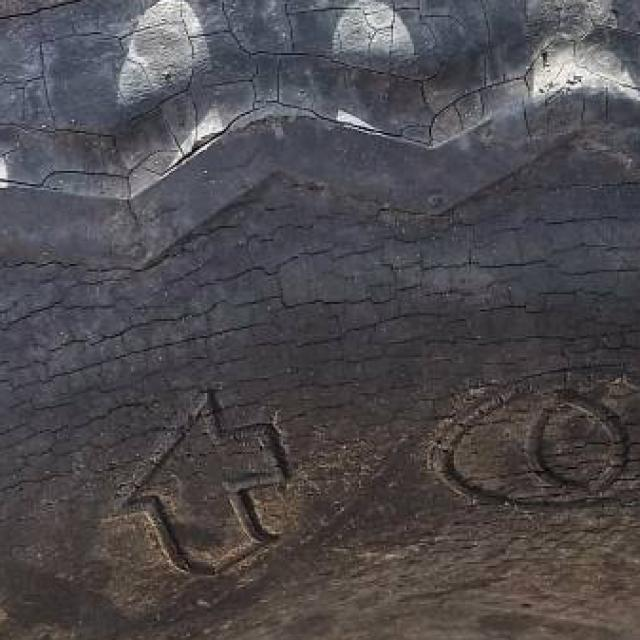Cracks: (0, 3, 640, 481)
